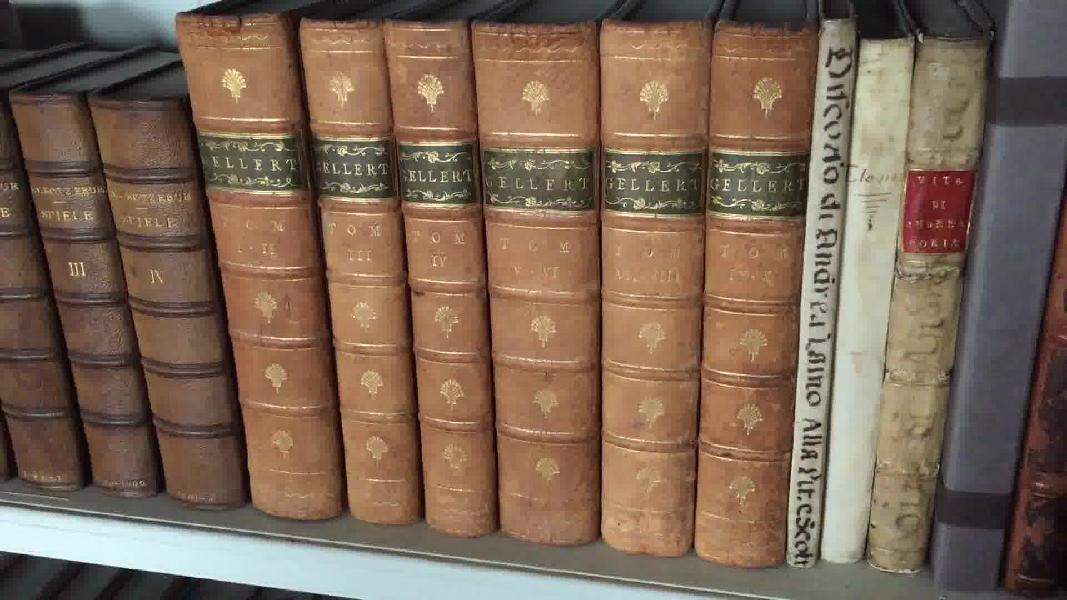Aa6-18_23: (167, 1, 819, 578)
Aa6-24: (786, 12, 858, 578)
Aa6-25: (821, 20, 913, 567)
Aa6-26: (862, 35, 983, 593)
Aa6-27: (927, 1, 1055, 586)
